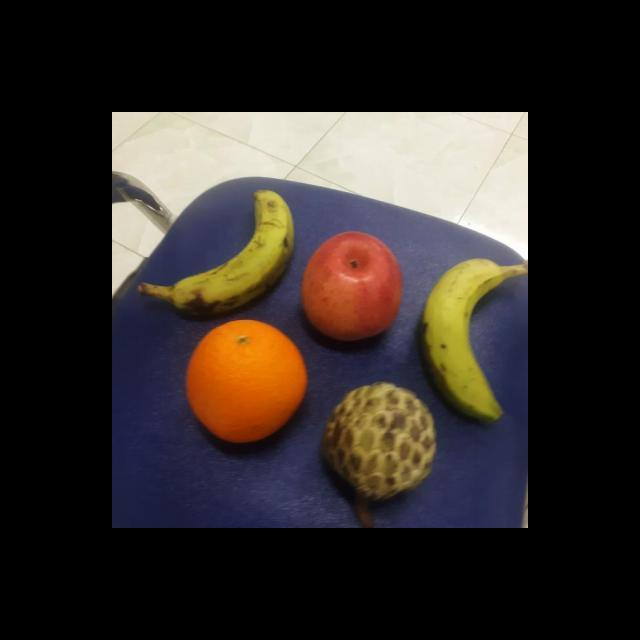Sakya fruit: (320, 380, 436, 496)
apple: (296, 228, 408, 344)
banana: (172, 186, 298, 318), (420, 258, 509, 424)
orange: (182, 318, 306, 445)
